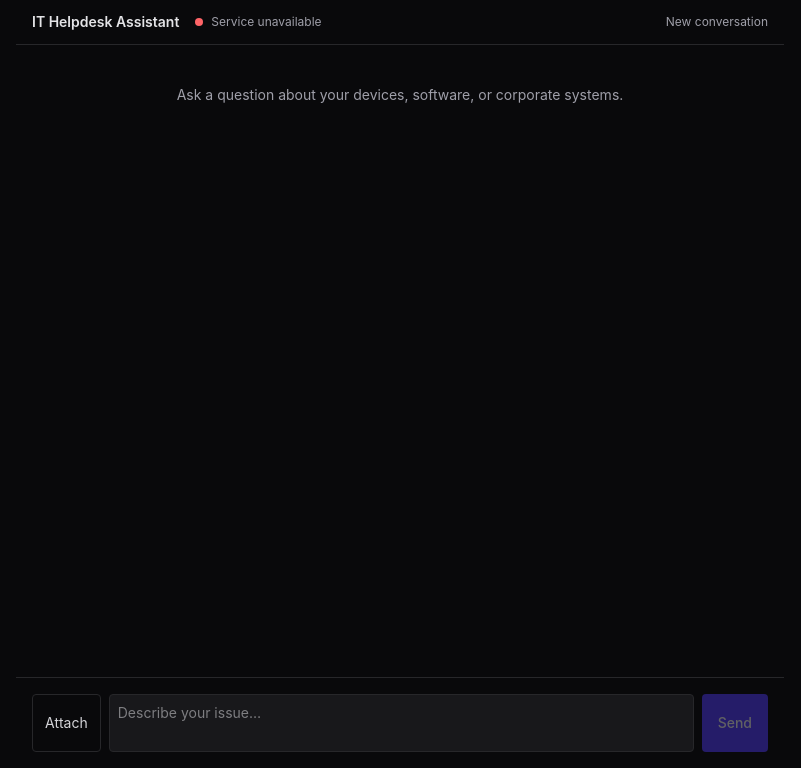
Test: App over SignalR › still starts a new conversation when the cancel request is rejected
Type "a slow question" into the text box named "Message". click: (401, 723)
box: [109, 694, 694, 752]
Then press Enter
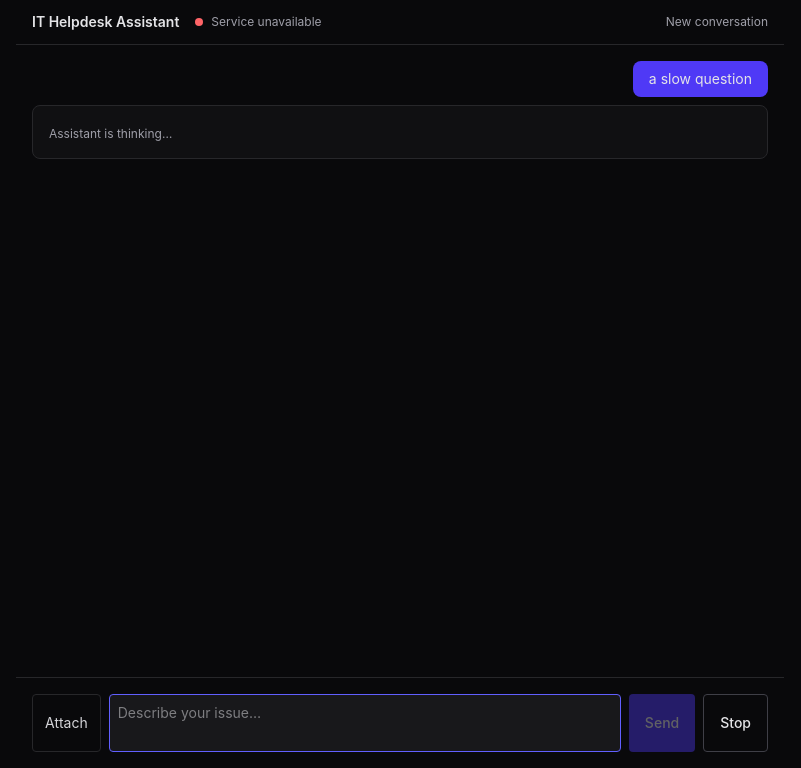
Click the button "New conversation". click: (717, 22)
box: [666, 14, 768, 30]
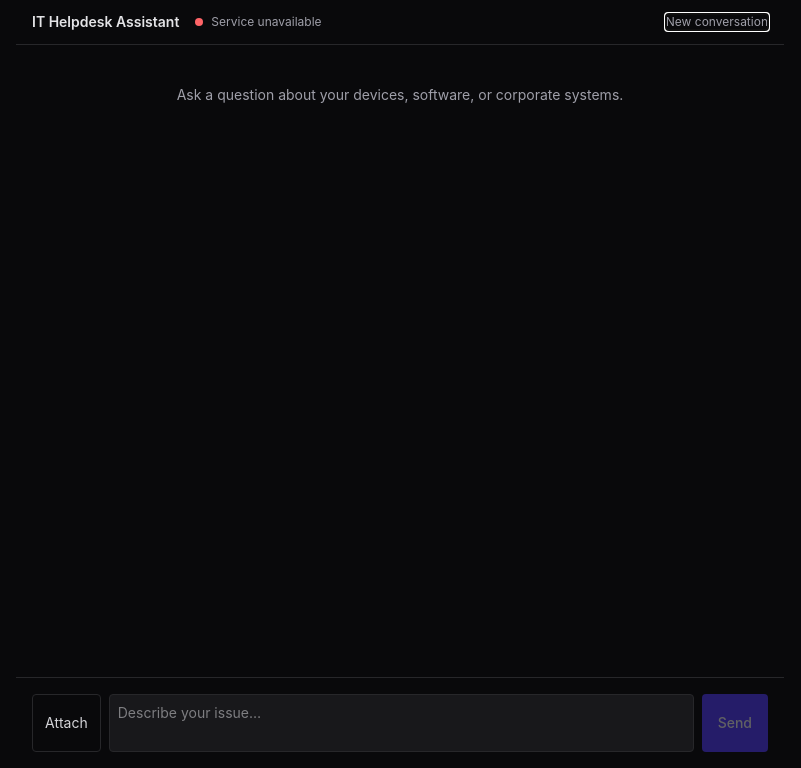
Now the text "Ask a question about your devices" is shown, box [177, 86, 623, 103]
